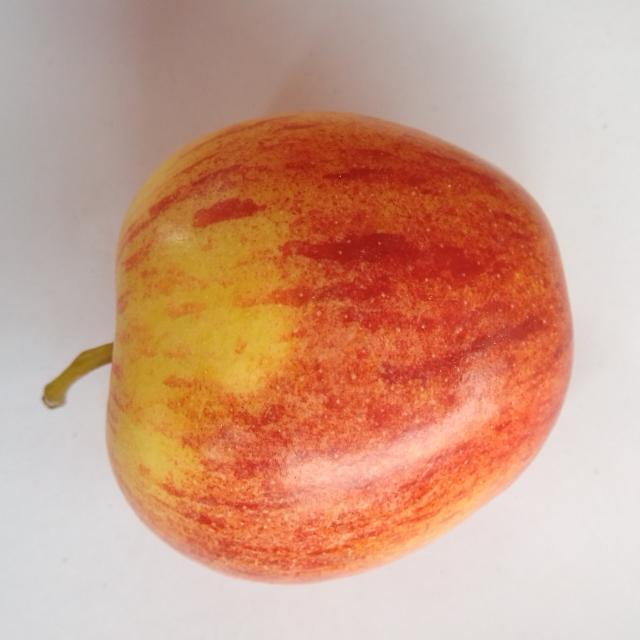apple: (43, 114, 572, 578)
